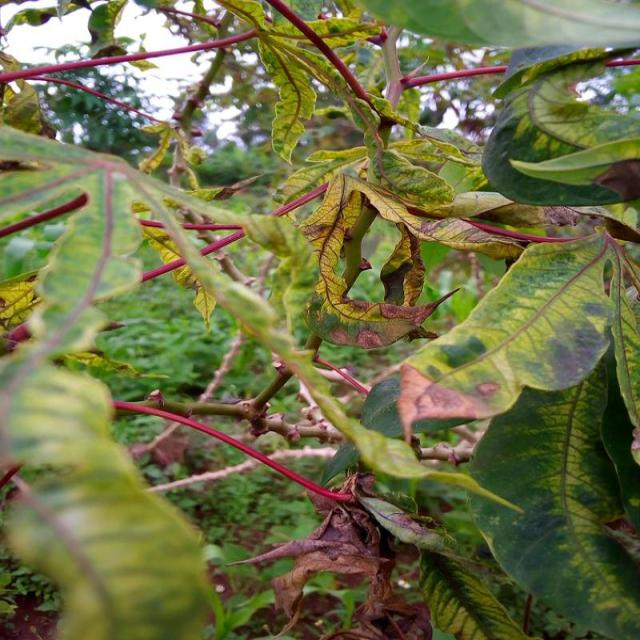cassava leaf: (362, 227, 634, 443), (466, 328, 639, 638), (480, 45, 638, 208)
